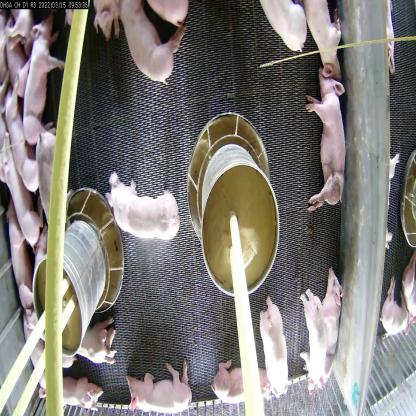Pig: (295, 60, 346, 213), (112, 0, 189, 89), (22, 8, 62, 164), (106, 170, 184, 241), (30, 111, 68, 256), (0, 83, 49, 191), (0, 132, 42, 242), (300, 0, 352, 86), (3, 203, 38, 321), (259, 281, 297, 388), (41, 368, 113, 415), (124, 370, 196, 415), (262, 0, 310, 61), (212, 365, 272, 411), (299, 282, 323, 392), (19, 313, 48, 393), (80, 319, 121, 372), (382, 281, 412, 353), (329, 263, 343, 352)
